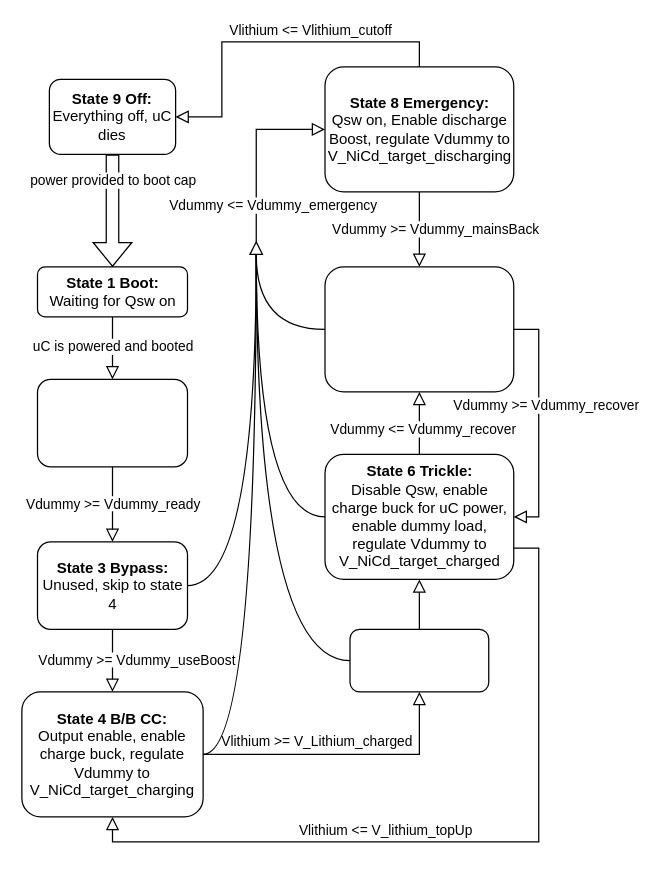
This 665x876 diagram has some shape labels left out. The shapes that lost their labels are listed below. From the top down, each one's centre as x and y in pixels, then its label:
At (419,329): "State 7 Recover: Qsw on, disable dummy load, wait for dip or rise".
At (112,422): "State 2 Prepare: Enable discharge boost, wait for Vdummy to rise".
At (419,660): "State 5 B/B CV: Unused, skip to state 6".
